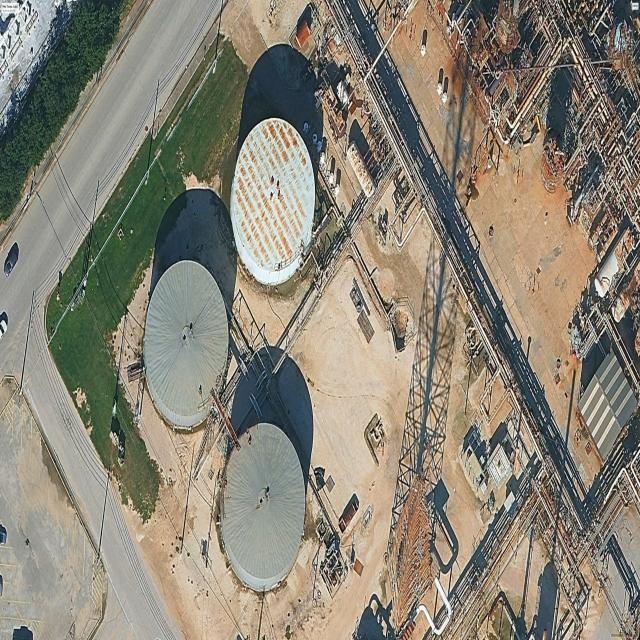Oil Rafinery: (143, 259, 229, 427), (220, 423, 305, 591), (230, 118, 315, 284)
